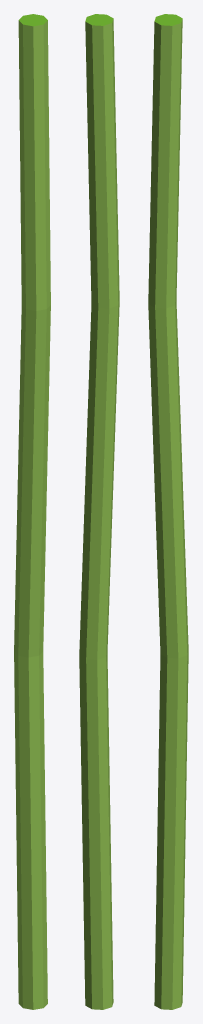
Rendered from Tulip Stem LOD 2.fbx.
3 views of the same model, side by side, from view 1: azimuth 90°, elevation 25°; view 2: azimuth 150°, elevation 25°; view 3: azimuth 330°, elevation 25° (orthographic).
Visible parts, largest first — view 1: Tulip .001; view 2: Tulip .001; view 3: Tulip .001.
Part boxes in pixels (<box>): Tulip .001: <box>14,14,50,1009</box>; Tulip .001: <box>79,14,119,1009</box>; Tulip .001: <box>148,14,188,1009</box>.
Size of the model in its own units: 0.0556 by 1.55 by 0.0528.
